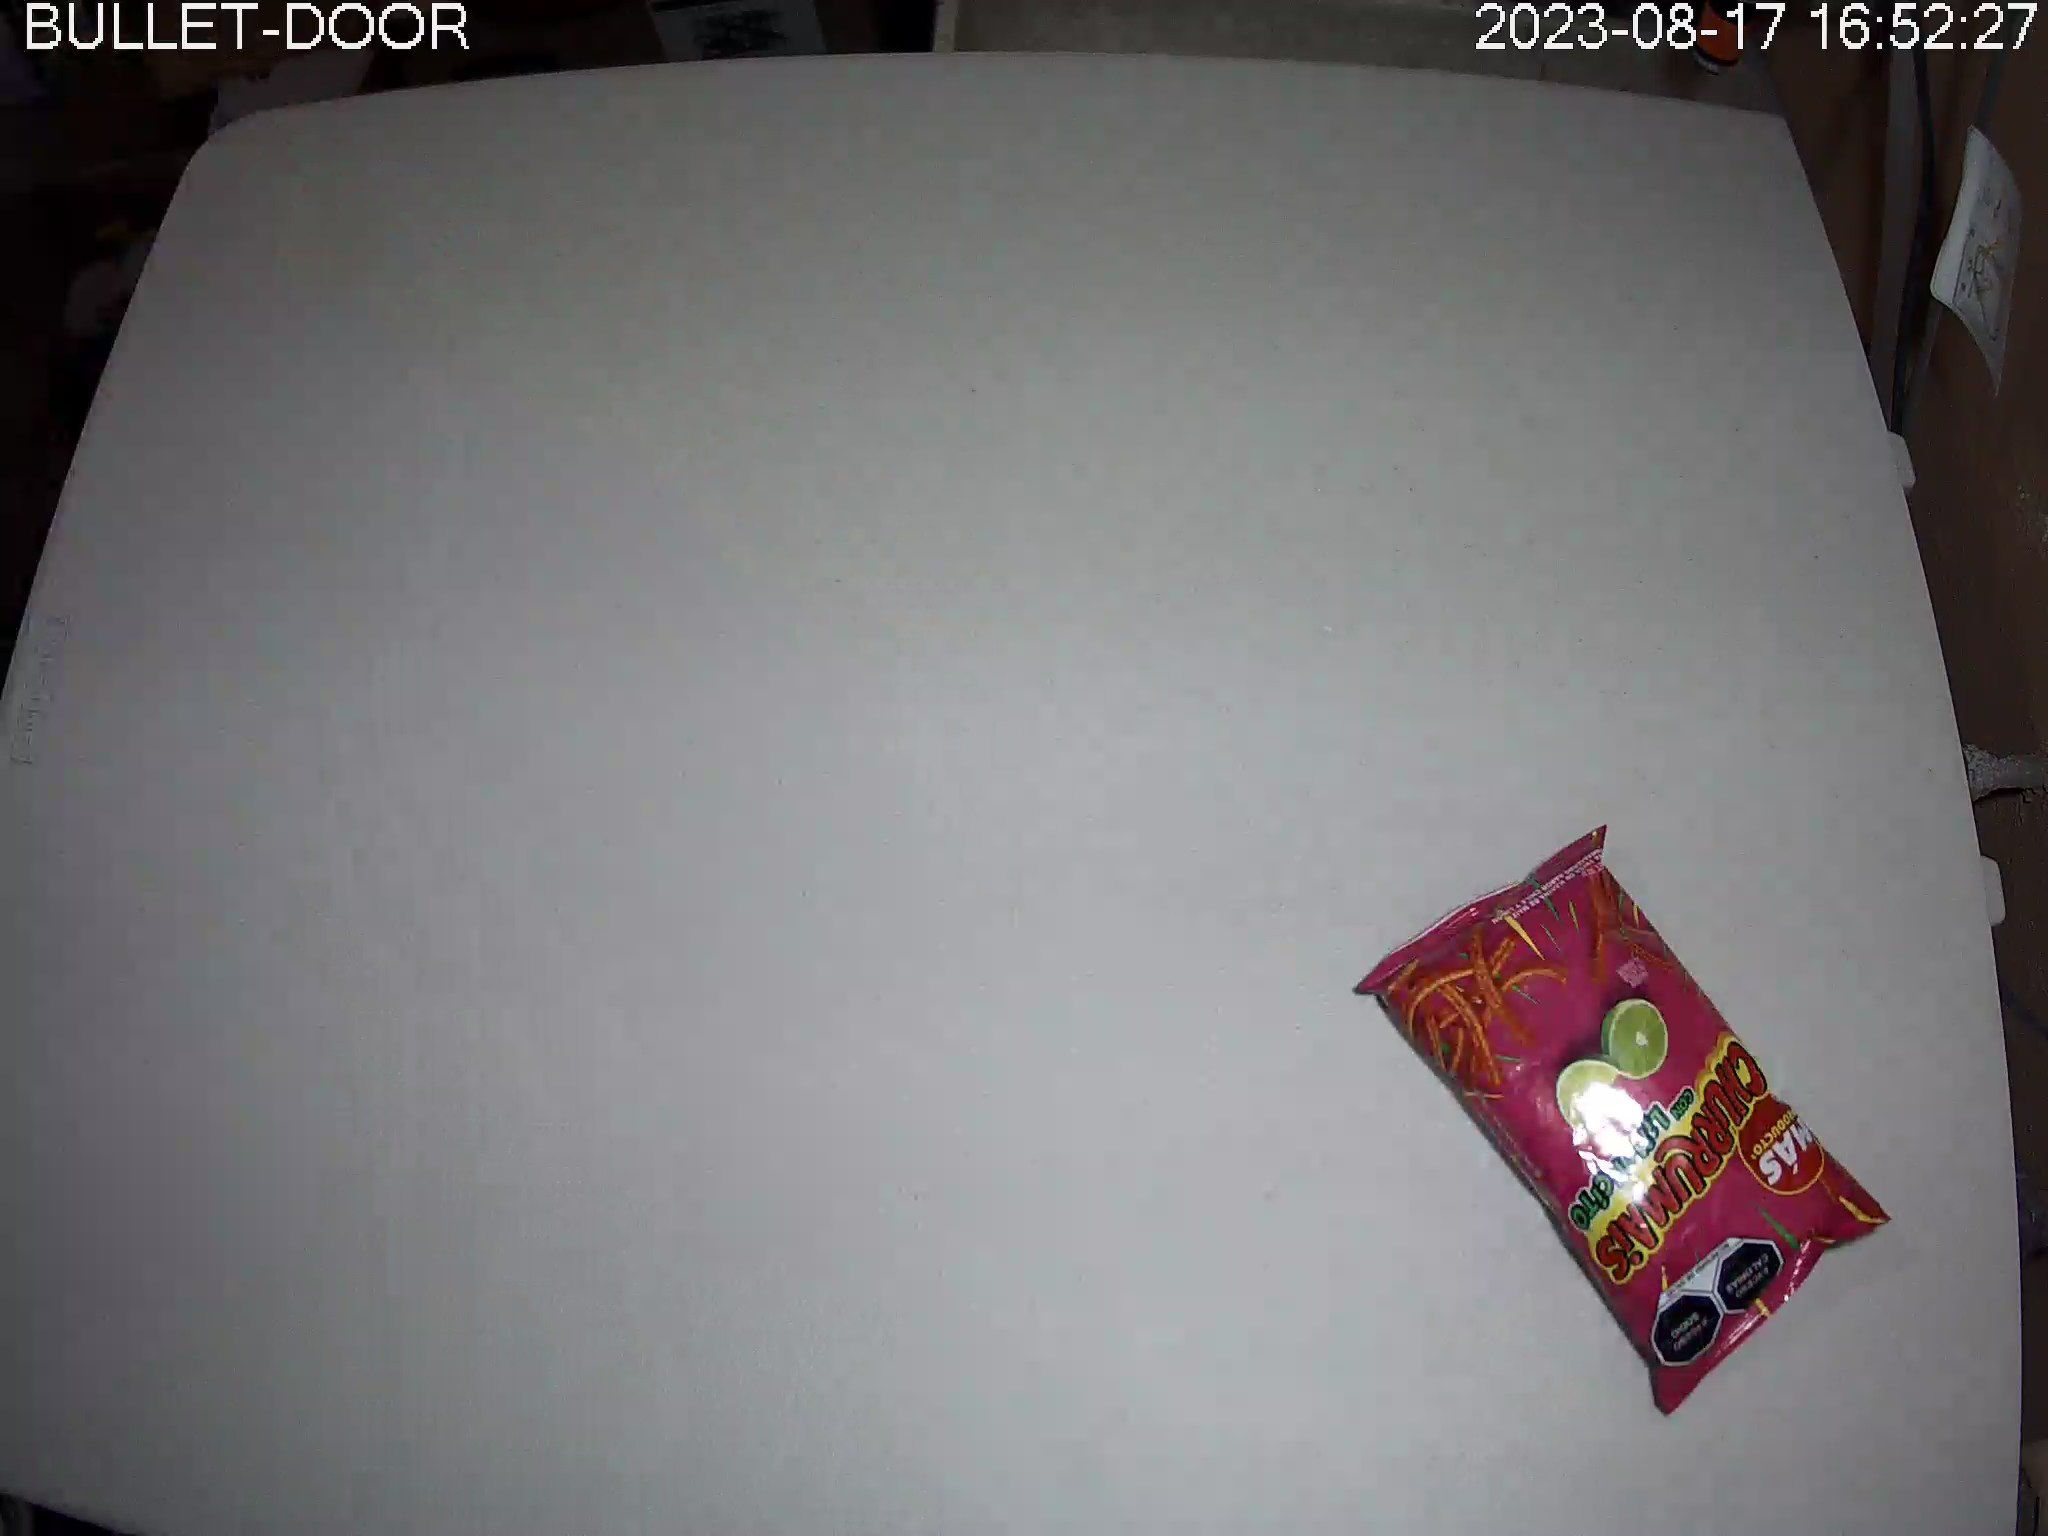Churrumais_70_F: (1351, 823, 1895, 1413)
